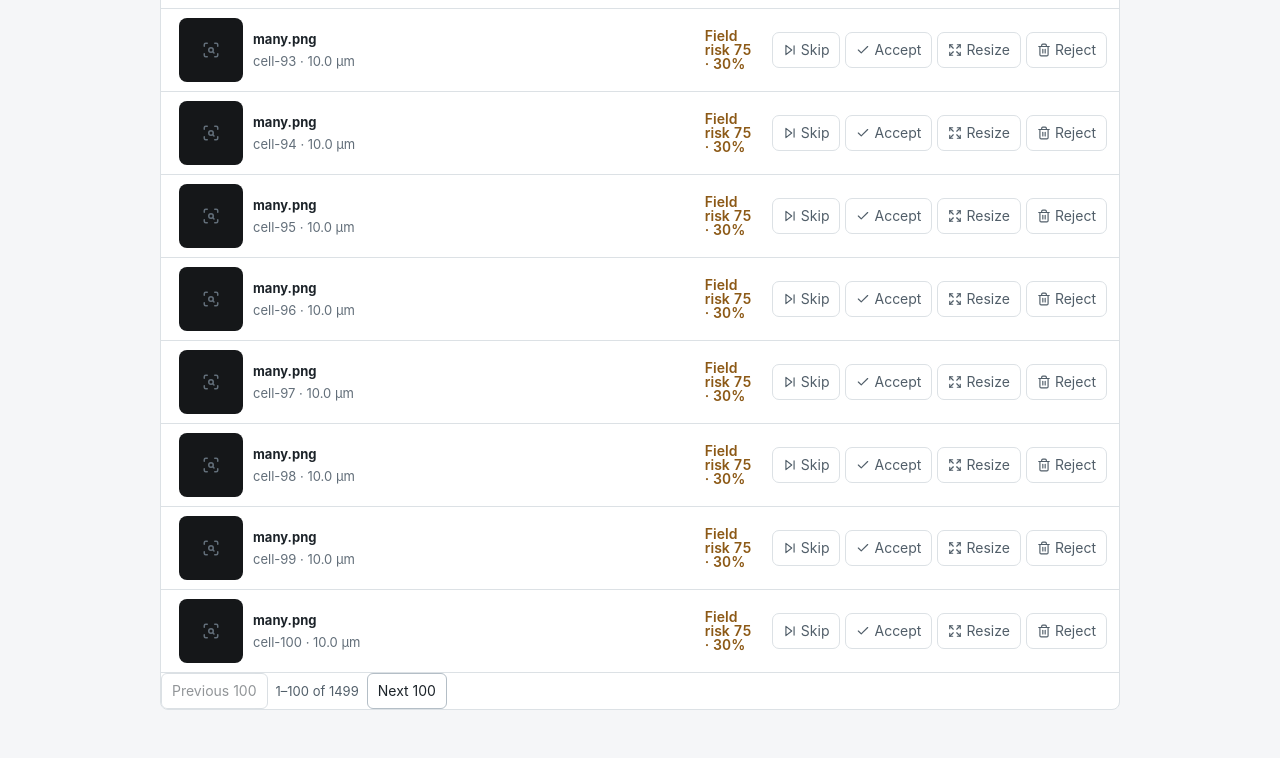
it: linked review, variants and contextual shortcuts › caps a 1,500-object review at 100 cards and lets accepted objects leave a low-confidence field
The width and height of the screenshot is (1280, 758).
(page scrolled)
Click the button "Next 100": (407, 691) [367,673,447,709]
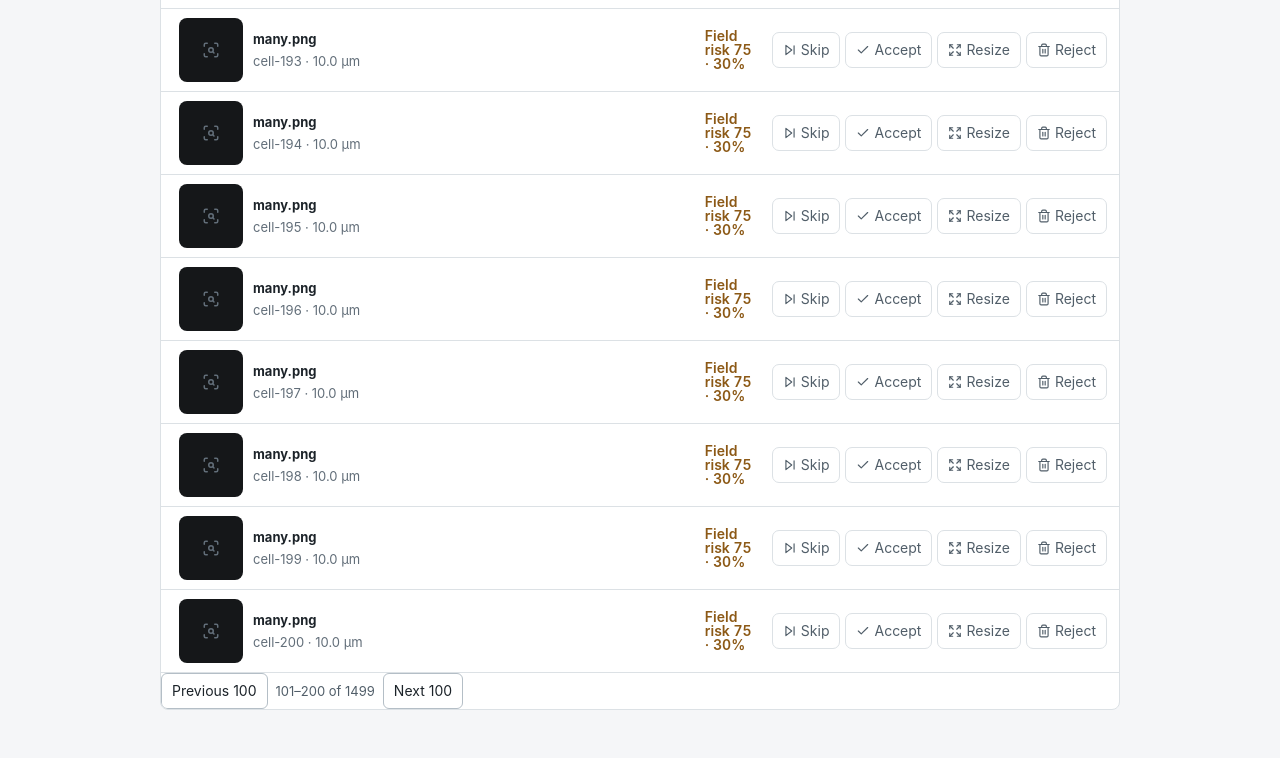
Expected: the text "101–200 of 1499" is shown, [276,682,375,701]
